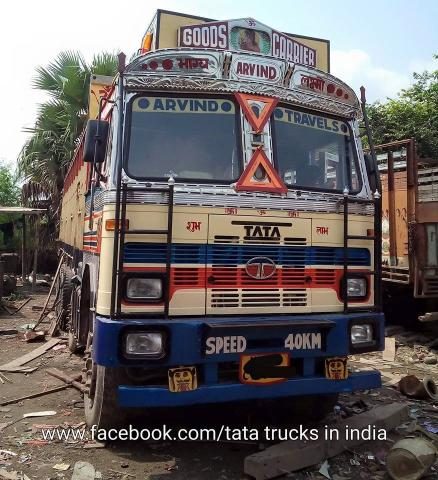truck: (48, 6, 385, 464)
